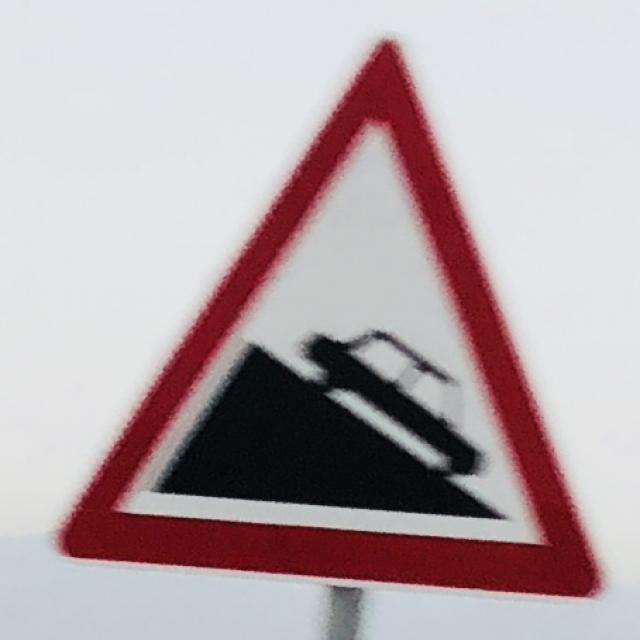steep descent: (56, 40, 599, 599)
